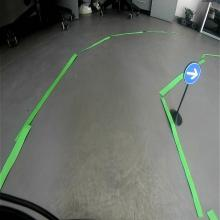right: (184, 61, 200, 86)
